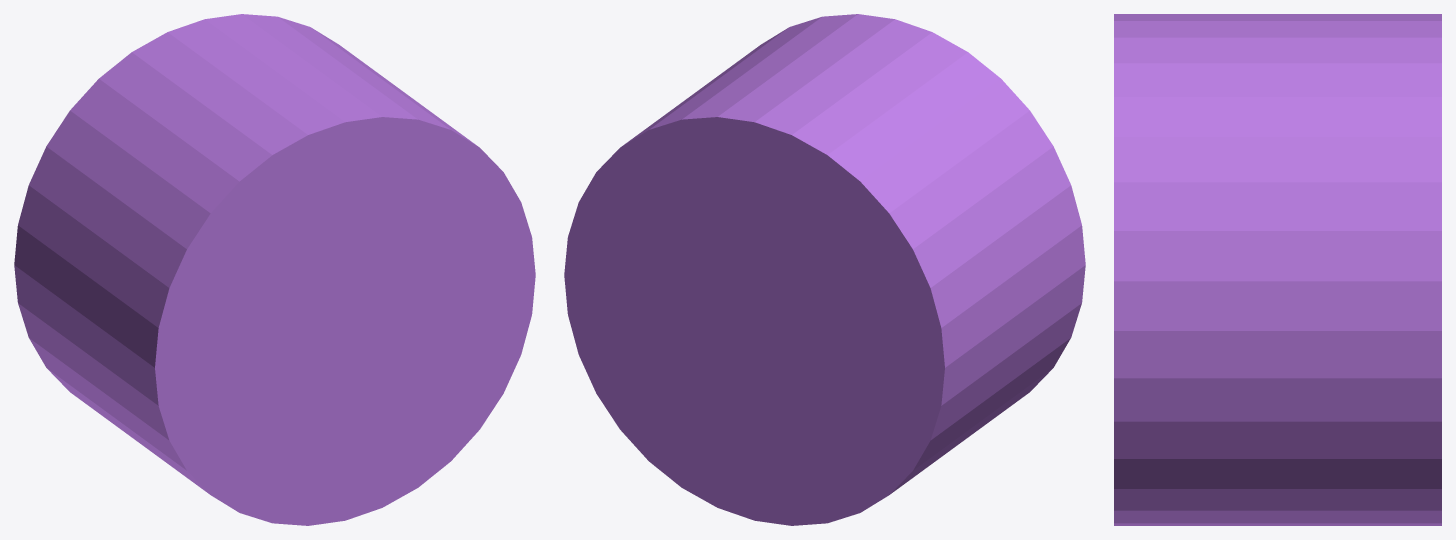
The model's file is robot-body.b9b32486.glb.
The picture shows the model from 3 angles, left to right: view 1: azimuth 30°, elevation 25°; view 2: azimuth 150°, elevation 25°; view 3: azimuth 270°, elevation 25°; orthographic projection. The views are drawn at different scales.
Visible parts, largest first — view 1: shadeRed; view 2: shadeRed; view 3: shadeRed.
Boxes of the visible parts, bbox=[...] form: shadeRed: bbox=[14, 14, 535, 525]; shadeRed: bbox=[564, 14, 1085, 525]; shadeRed: bbox=[1114, 14, 1441, 525].
Size of the model in its own units: 1.4 by 1.4 by 0.896.
